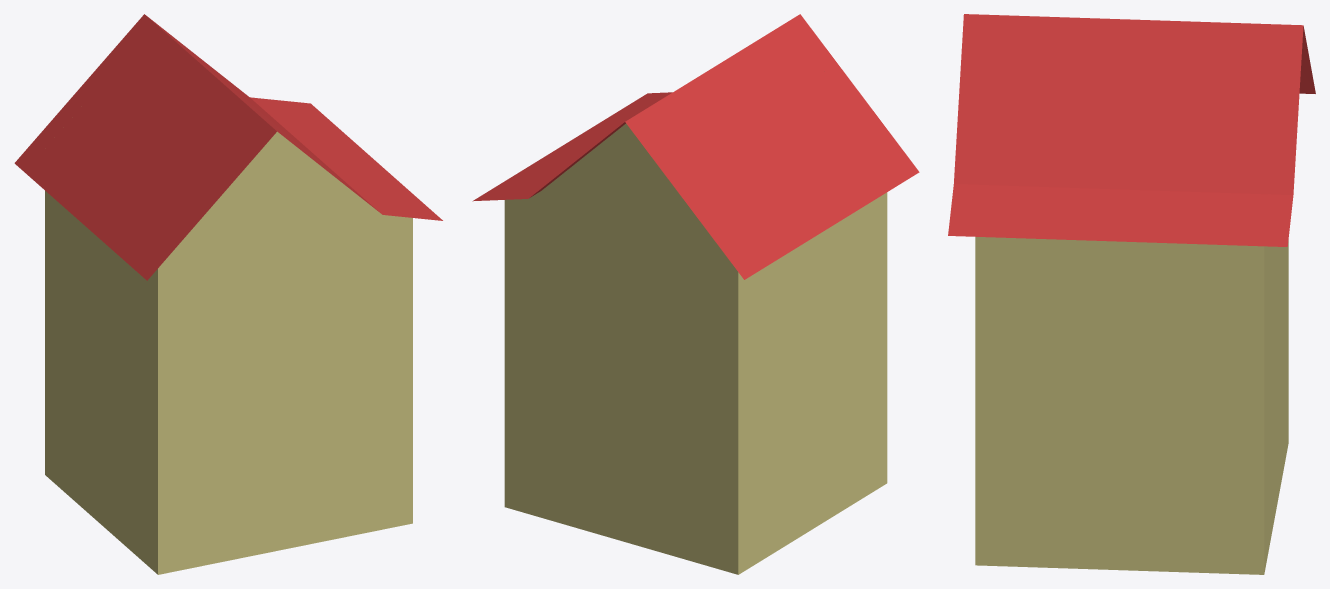
The picture shows the model from 3 angles, left to right: view 1: azimuth 30°, elevation 25°; view 2: azimuth 150°, elevation 25°; view 3: azimuth 270°, elevation 25°; orthographic projection. The views are drawn at different scales.
Size of the model in its own units: 11.45 by 10.84 by 15.46.
